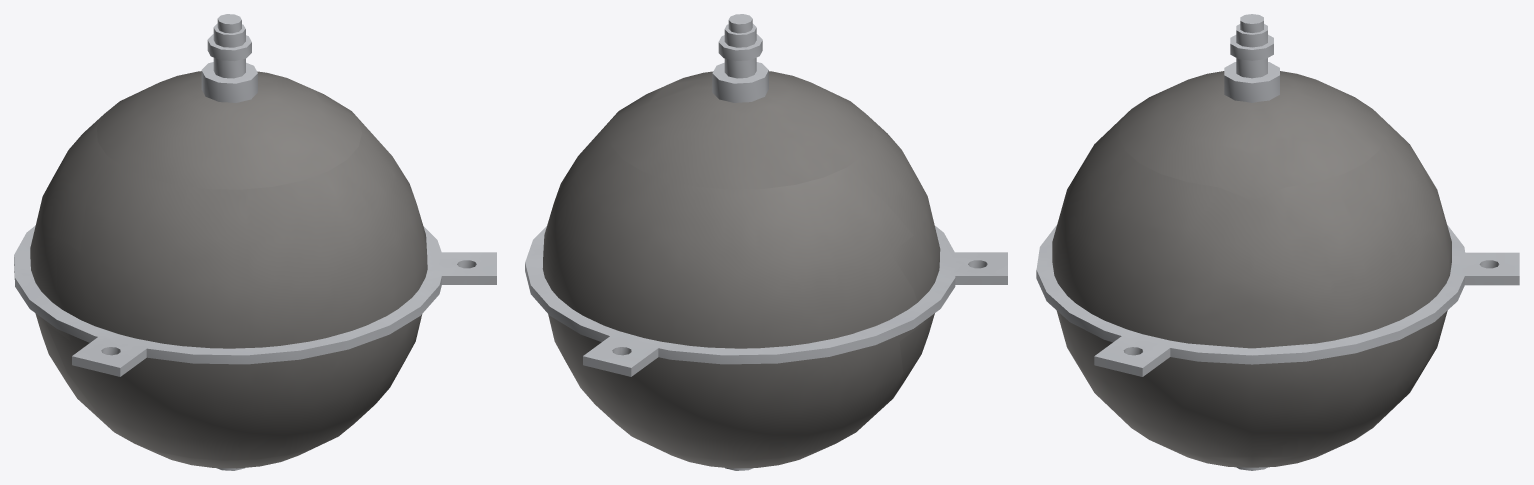
File: tank05_monoprop_xs.glb
3 renders of one model, left to right at view 1: azimuth 30°, elevation 25°; view 2: azimuth 150°, elevation 25°; view 3: azimuth 270°, elevation 25°, orthographic.
Parts seen in each view (by area): view 1: sphere, girth_flange, mount_lugs, ports; view 2: sphere, girth_flange, ports, mount_lugs; view 3: sphere, girth_flange, mount_lugs, ports.
Boxes of the visible parts, x1,y1,x2,y2 form: sphere: [30, 71, 427, 468]; girth_flange: [14, 225, 443, 364]; mount_lugs: [72, 252, 496, 376]; ports: [201, 14, 257, 470]; sphere: [542, 71, 940, 468]; girth_flange: [525, 225, 956, 364]; ports: [712, 14, 768, 470]; mount_lugs: [583, 252, 1007, 376]; sphere: [1052, 71, 1451, 467]; girth_flange: [1036, 225, 1465, 364]; mount_lugs: [1094, 252, 1519, 376]; ports: [1224, 14, 1279, 470].
Bounding box in the file's own units: 0.5962 × 0.5942 × 0.5865.
Materials: 2 (2 with a texture image).
